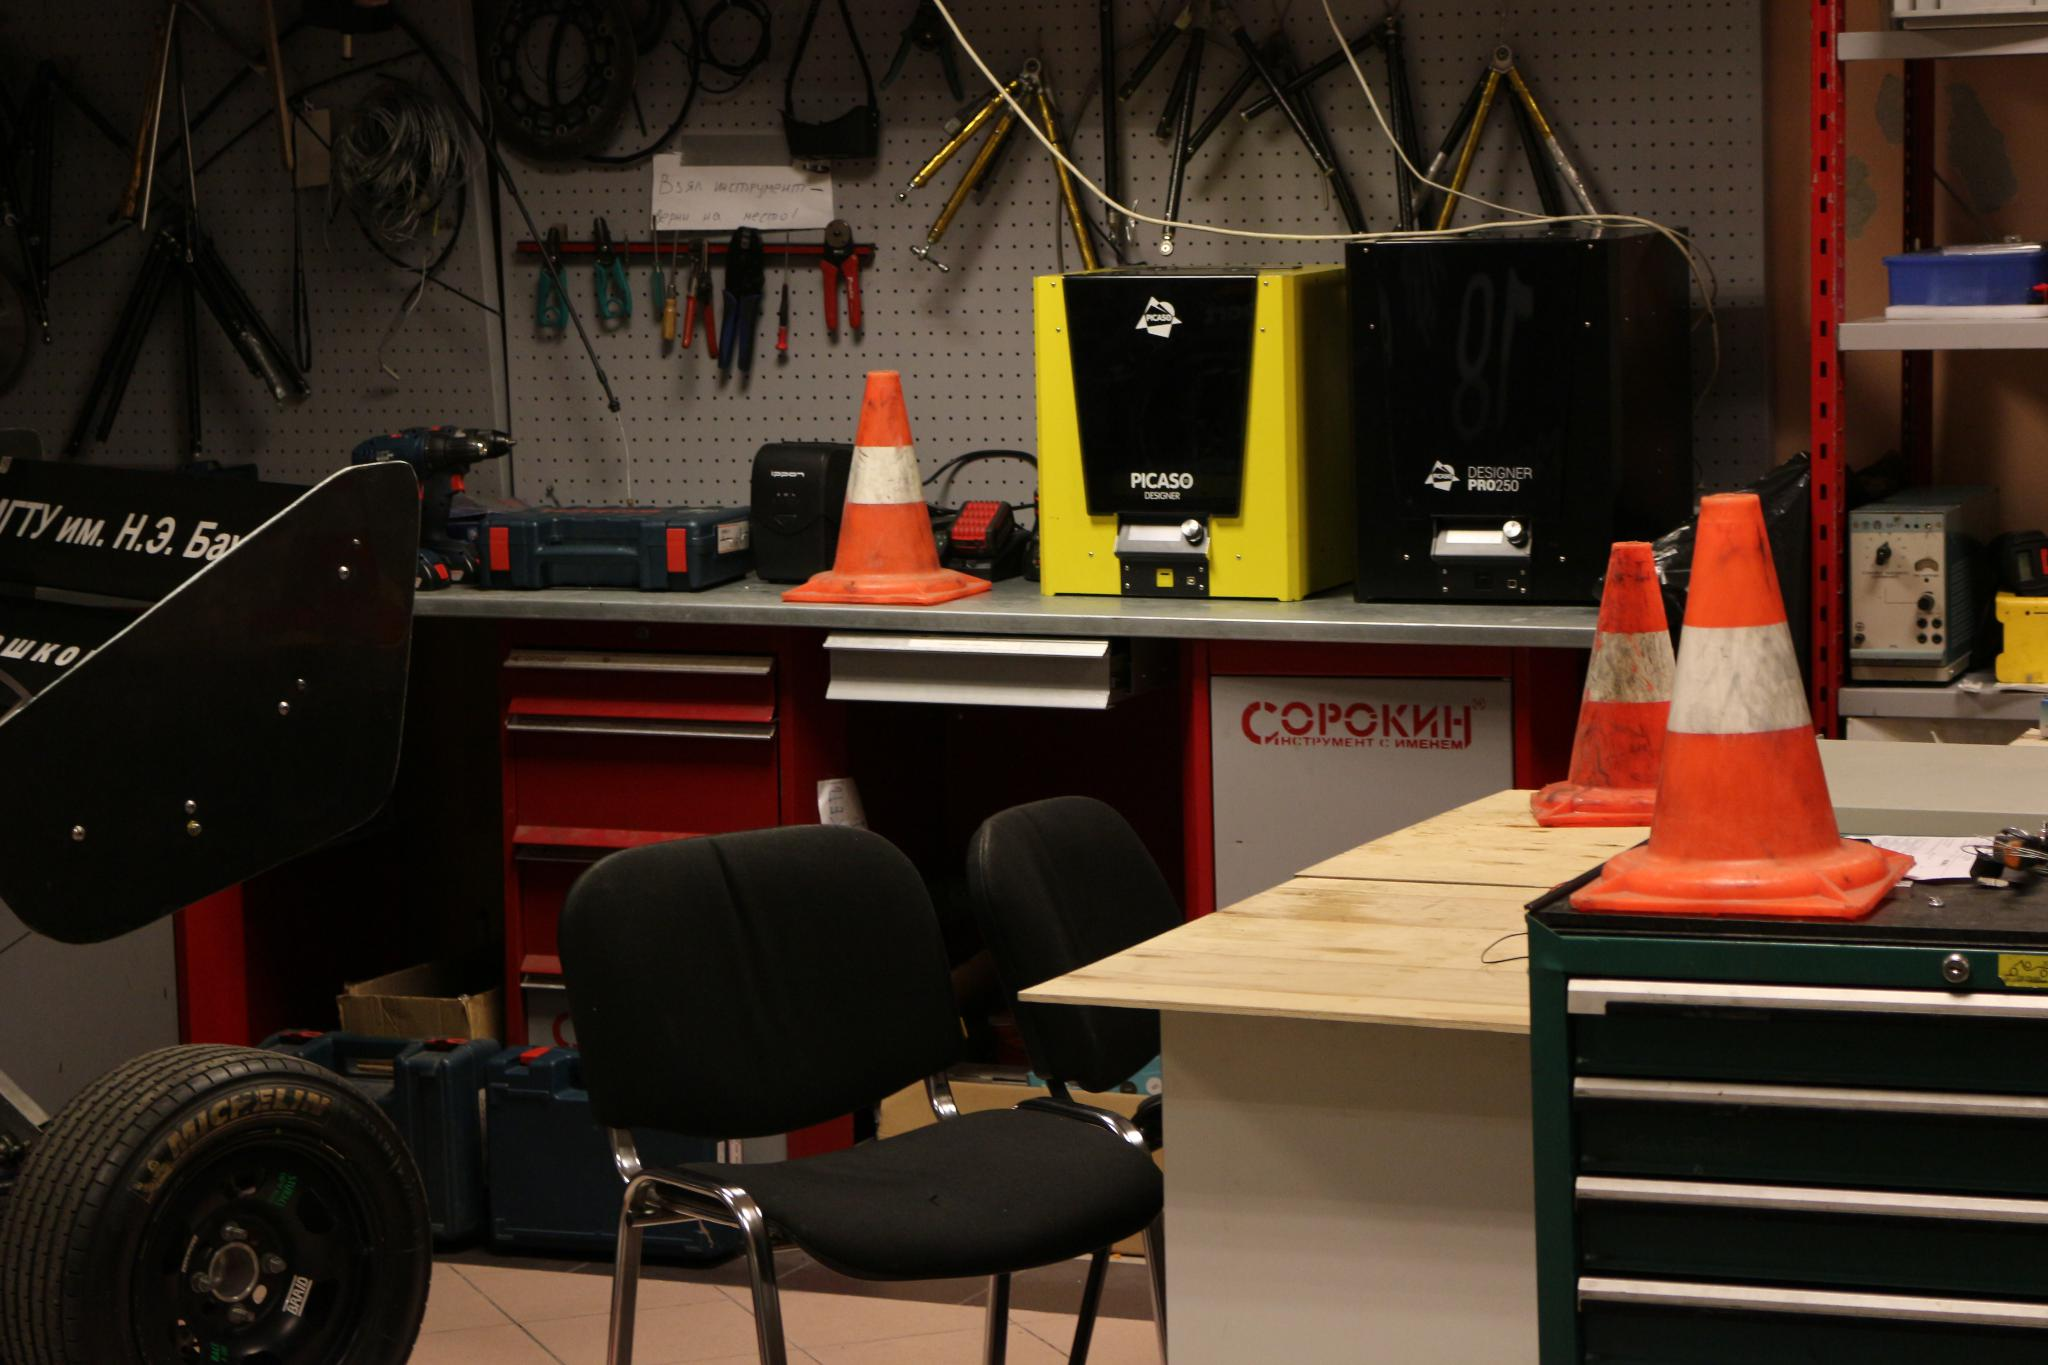Orange_Cone: (1588, 483, 1909, 905), (1527, 535, 1728, 832), (781, 366, 996, 611)
